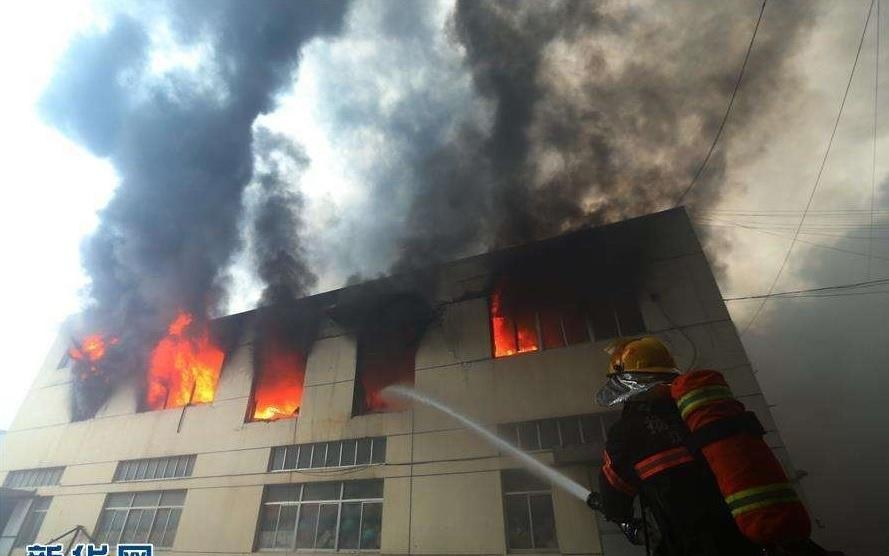fire: (147, 315, 224, 408), (248, 349, 304, 420), (488, 297, 537, 358), (70, 330, 112, 364)
